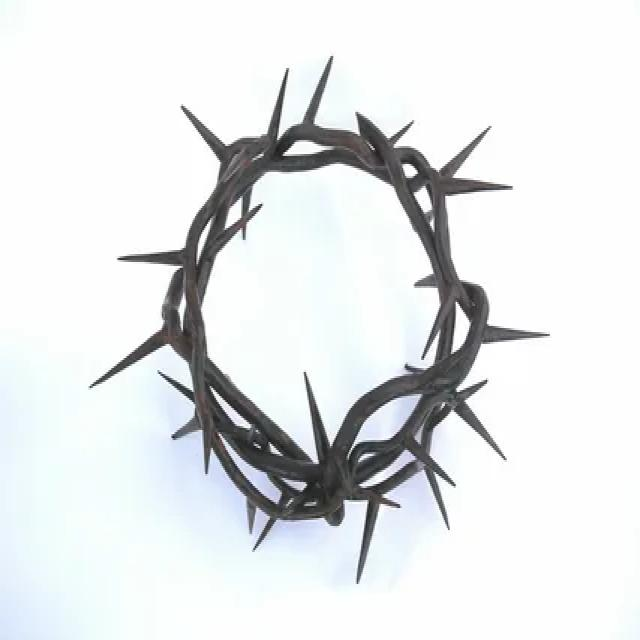crown: (154, 89, 504, 539)
